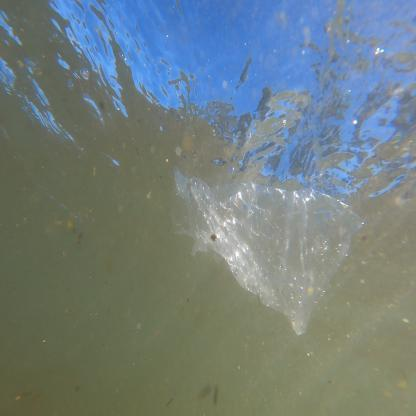Rác: (171, 161, 368, 330)
